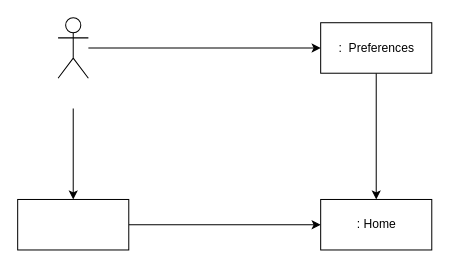
This 449x268 diagram has some shape labels left out. The centre of each missing label's shape, as x and y in pixels:
": Login" belongs at [73,224].
"User" belongs at [72,47].
